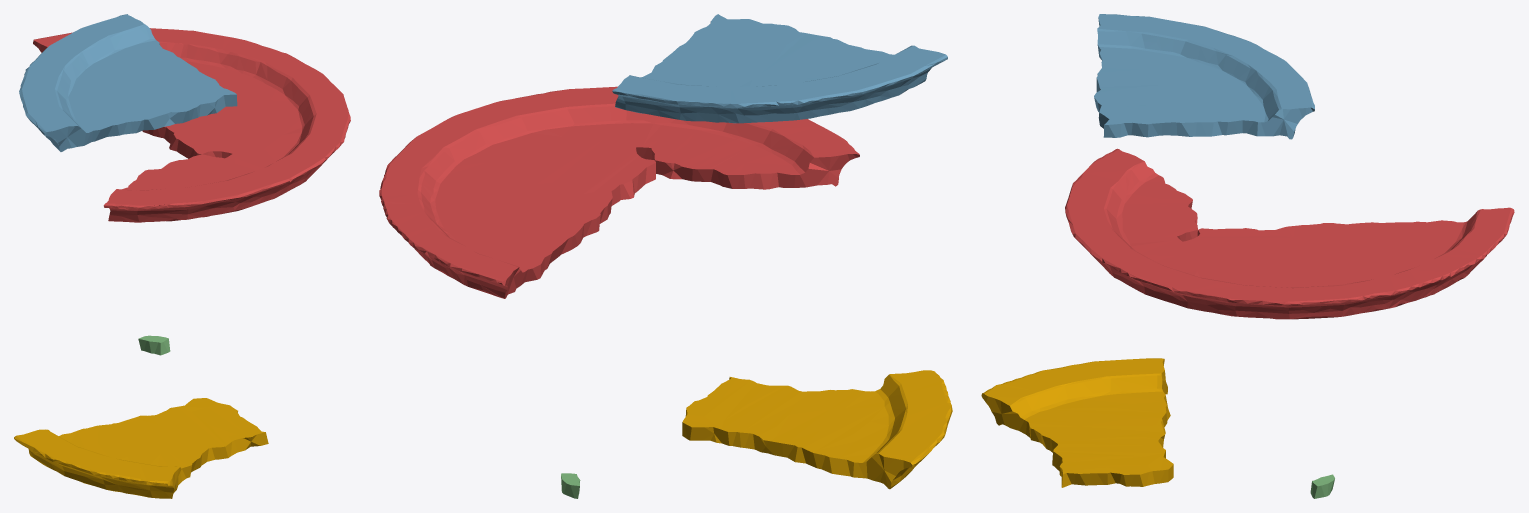
Rendered from fractured_62_4pcs_transformed.glb.
The picture shows the model from 3 angles, left to right: view 1: azimuth 30°, elevation 25°; view 2: azimuth 150°, elevation 25°; view 3: azimuth 270°, elevation 25°; orthographic projection. The views are drawn at different scales.
Parts seen in each view (by area): view 1: piece_1.obj, piece_2.obj, piece_0.obj, piece_3.obj; view 2: piece_1.obj, piece_2.obj, piece_0.obj; view 3: piece_1.obj, piece_2.obj, piece_0.obj.
Boxes of the visible parts, x1,y1,x2,y2 form: piece_1.obj: [33, 28, 350, 222]; piece_2.obj: [19, 14, 237, 151]; piece_0.obj: [14, 398, 268, 498]; piece_3.obj: [138, 335, 170, 355]; piece_1.obj: [379, 86, 859, 298]; piece_2.obj: [612, 14, 947, 123]; piece_0.obj: [682, 370, 952, 489]; piece_1.obj: [1065, 148, 1514, 319]; piece_2.obj: [1094, 14, 1314, 139]; piece_0.obj: [981, 358, 1173, 487].
Bounding box in the file's own units: 1 × 0.9124 × 1.18.
